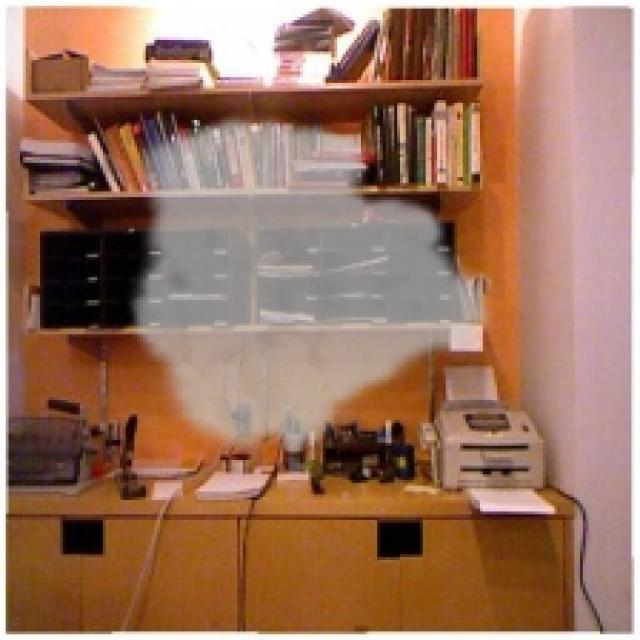smoke: (126, 111, 500, 460)
